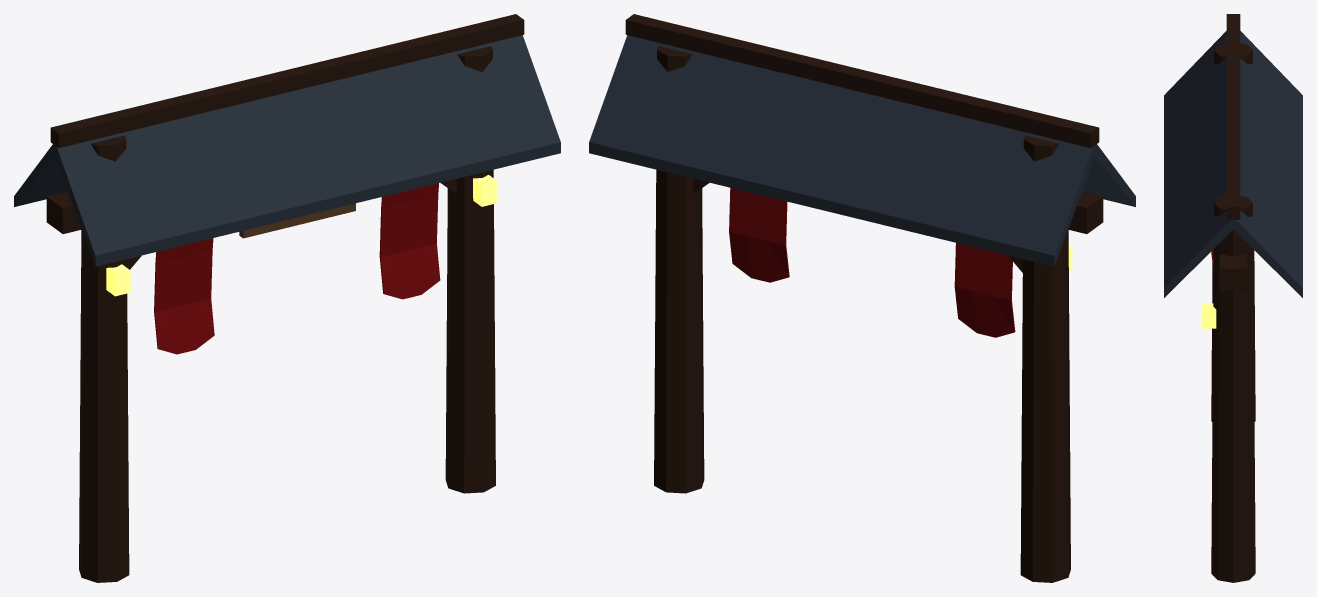
File: puerta_poblado.fbx
The picture shows the model from 3 angles, left to right: view 1: azimuth 30°, elevation 25°; view 2: azimuth 150°, elevation 25°; view 3: azimuth 270°, elevation 25°; orthographic projection. The views are drawn at different scales.
Parts seen in each view (by area): view 1: puerta_poblado; view 2: puerta_poblado; view 3: puerta_poblado.
Boxes of the visible parts, x1,y1,x2,y2 form: puerta_poblado: [14, 14, 560, 582]; puerta_poblado: [589, 14, 1135, 582]; puerta_poblado: [1164, 14, 1302, 582].
Bounding box in the file's own units: 6.6 × 6.15 × 2.
